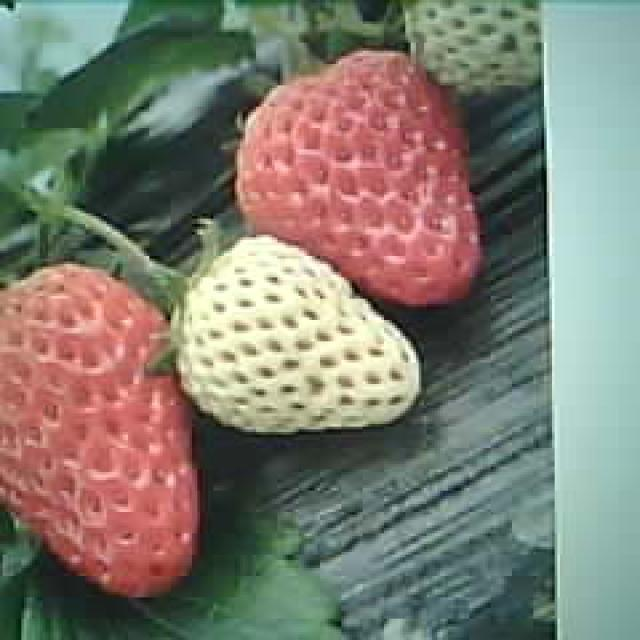strawberry: (0, 266, 198, 596), (239, 48, 480, 304), (176, 233, 422, 431), (408, 0, 540, 92)
